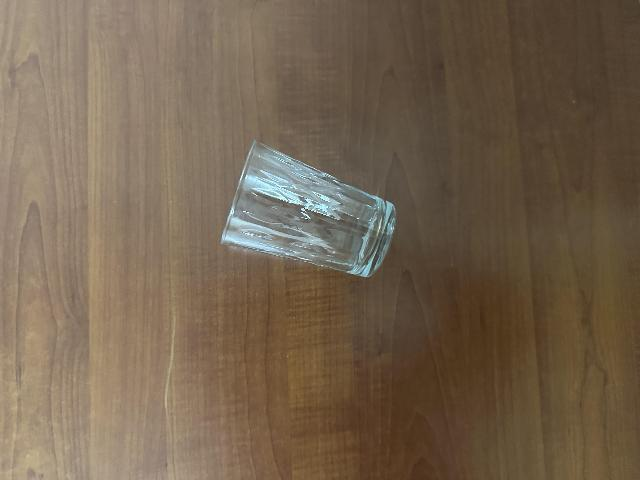Cam: (216, 140, 411, 278)
